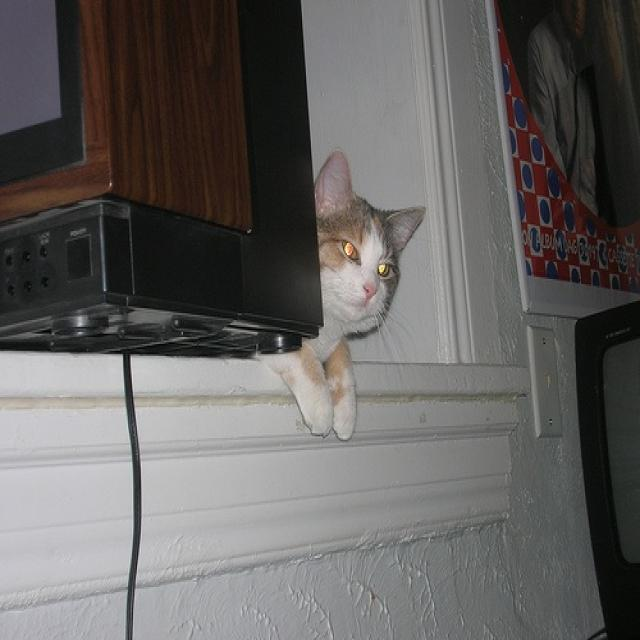cat: (260, 147, 426, 440)
tvmonitor: (1, 2, 323, 359), (574, 298, 638, 638)
